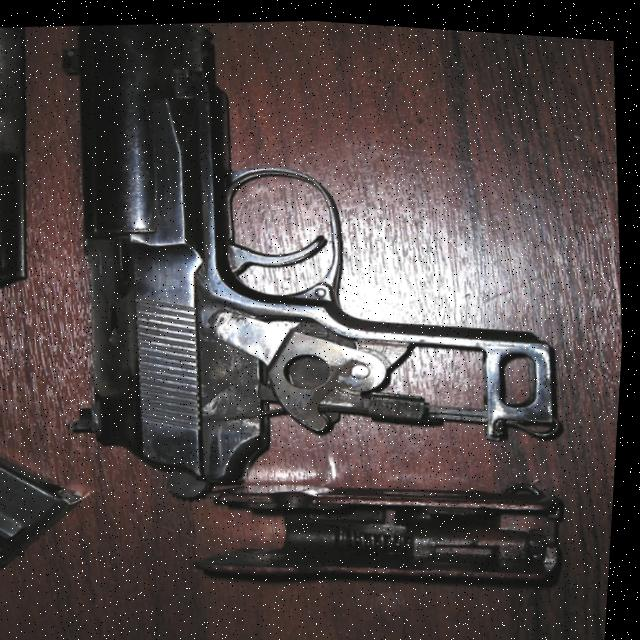pistol: (37, 3, 593, 513)
